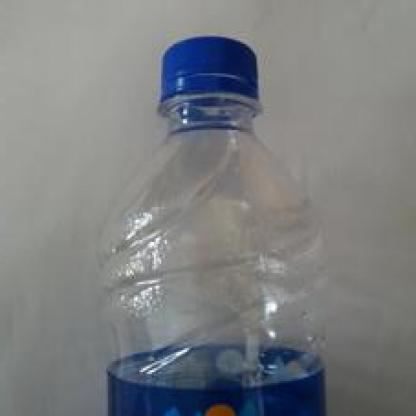bottle: (76, 33, 334, 411)
